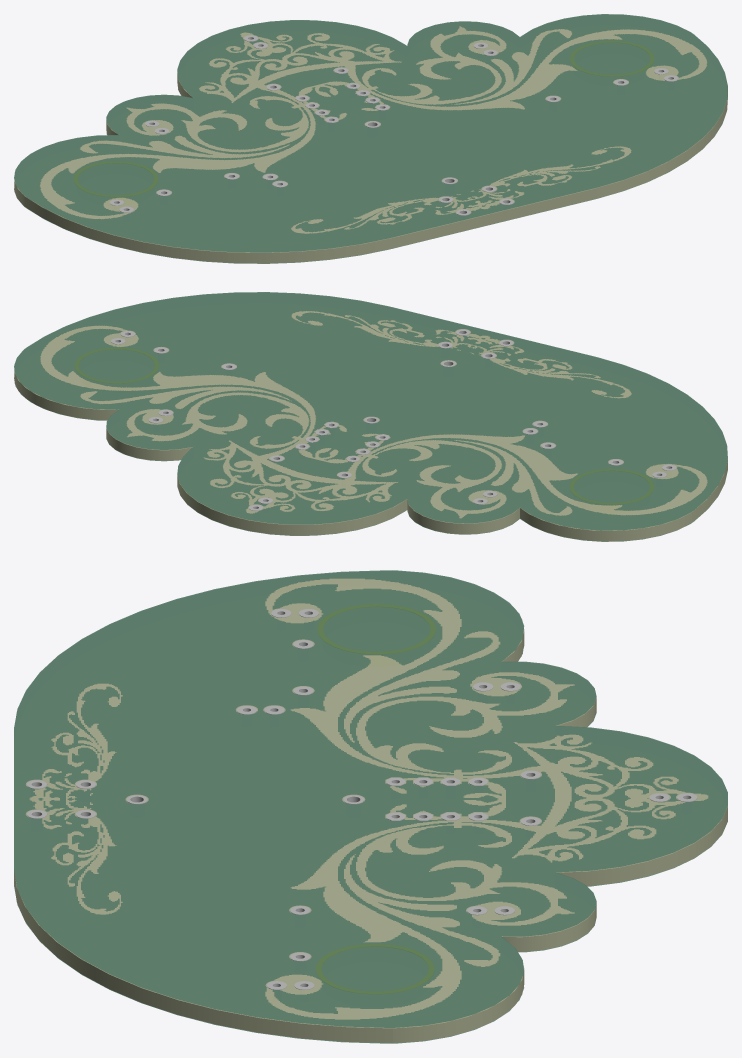
File: tiaracon-2016-badge.glb
3 renders of one model, top to bottom at view 1: azimuth 30°, elevation 25°; view 2: azimuth 150°, elevation 25°; view 3: azimuth 270°, elevation 25°, orthographic. The views are drawn at different scales.
Parts seen in each view (by area): view 1: =>[0:1:1:8], =>[0:1:1:6], =>[0:1:1:2]; view 2: =>[0:1:1:8], =>[0:1:1:6], =>[0:1:1:2]; view 3: =>[0:1:1:8], =>[0:1:1:6], =>[0:1:1:2].
Part boxes in pixels (<box>): =>[0:1:1:8]: <box>14,15,727,263</box>; =>[0:1:1:6]: <box>14,14,727,263</box>; =>[0:1:1:2]: <box>74,35,678,215</box>; =>[0:1:1:8]: <box>14,293,727,541</box>; =>[0:1:1:6]: <box>14,292,727,541</box>; =>[0:1:1:2]: <box>75,329,676,510</box>; =>[0:1:1:8]: <box>14,571,727,1043</box>; =>[0:1:1:6]: <box>14,570,727,1043</box>; =>[0:1:1:2]: <box>26,604,697,993</box>.
Size of the model in its own units: 0.1 by 0.00164 by 0.0659.
4 materials, 4 textured.
